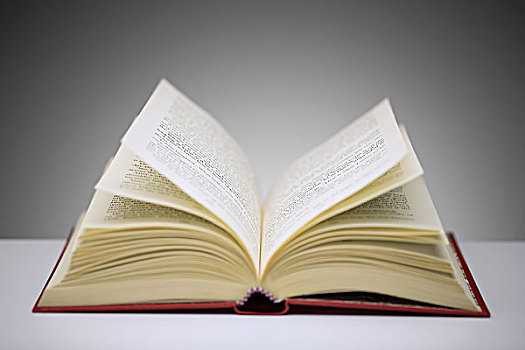book: (30, 74, 492, 322)
